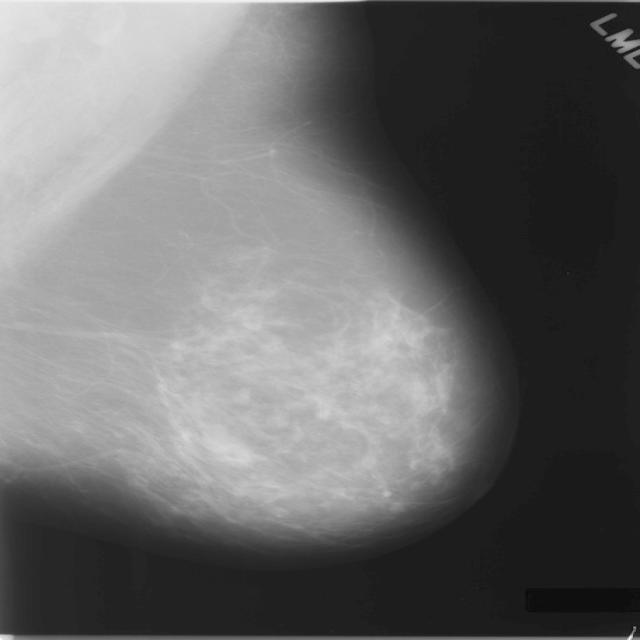tumour: (195, 425, 250, 462)
